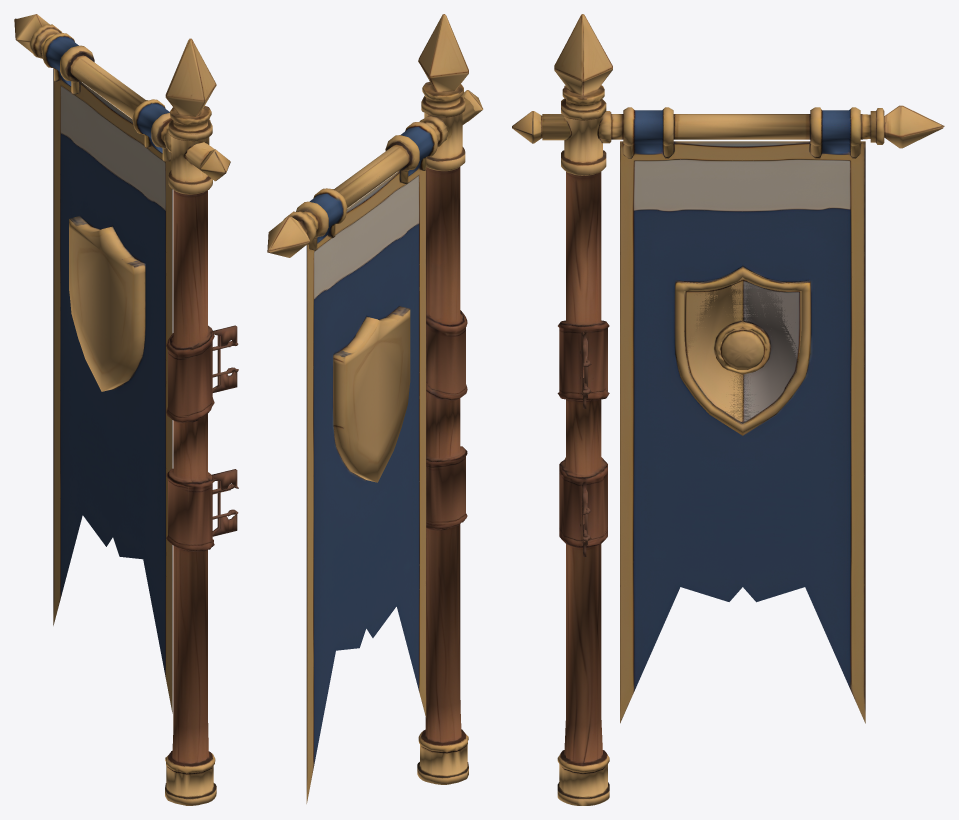
Rendered from herald_banner_tripo.glb.
3 views of the same model, side by side, from view 1: azimuth 30°, elevation 25°; view 2: azimuth 150°, elevation 25°; view 3: azimuth 270°, elevation 25° (orthographic). The views are drawn at different scales.
Parts seen in each view (by area): view 1: tripo_node_9c2b2604-10b6-4123-a704-be77ed76b094; view 2: tripo_node_9c2b2604-10b6-4123-a704-be77ed76b094; view 3: tripo_node_9c2b2604-10b6-4123-a704-be77ed76b094.
Part boxes in pixels (left/top/right/bottom): tripo_node_9c2b2604-10b6-4123-a704-be77ed76b094: left=14, top=14, right=238, bottom=805; tripo_node_9c2b2604-10b6-4123-a704-be77ed76b094: left=267, top=14, right=483, bottom=803; tripo_node_9c2b2604-10b6-4123-a704-be77ed76b094: left=512, top=14, right=944, bottom=805.
Bounding box in the file's own units: 0.0996 × 0.998 × 0.502.
Materials: 1 (1 with a texture image).
